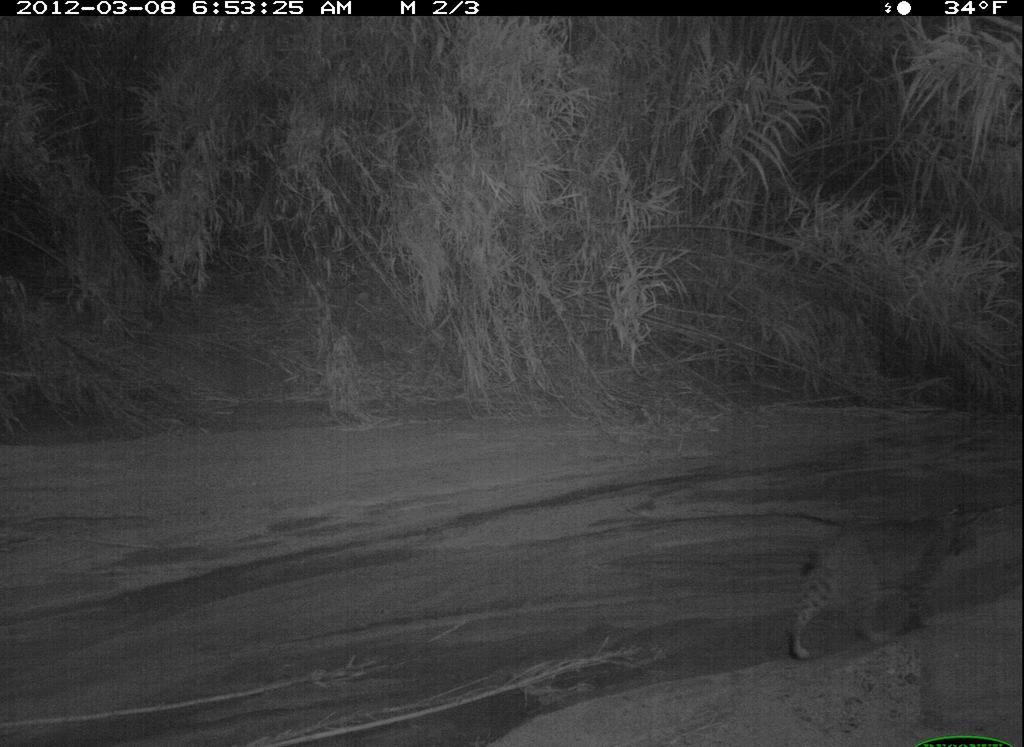bobcat: (781, 491, 990, 669)
